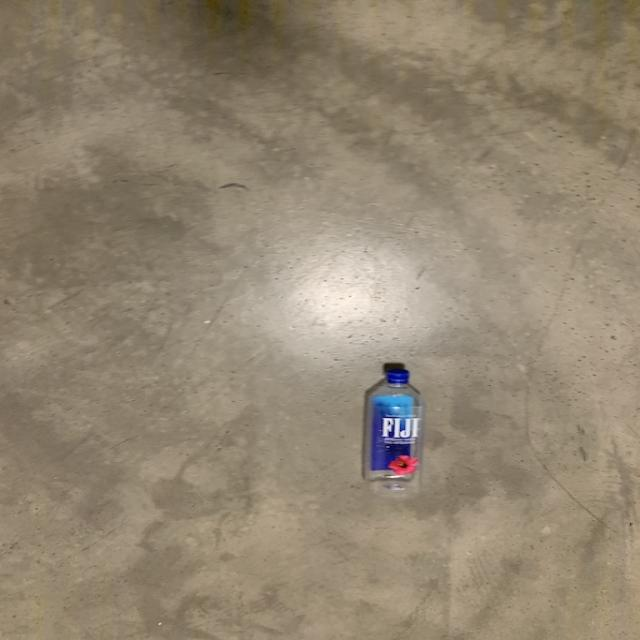litter: (359, 364, 429, 503)
